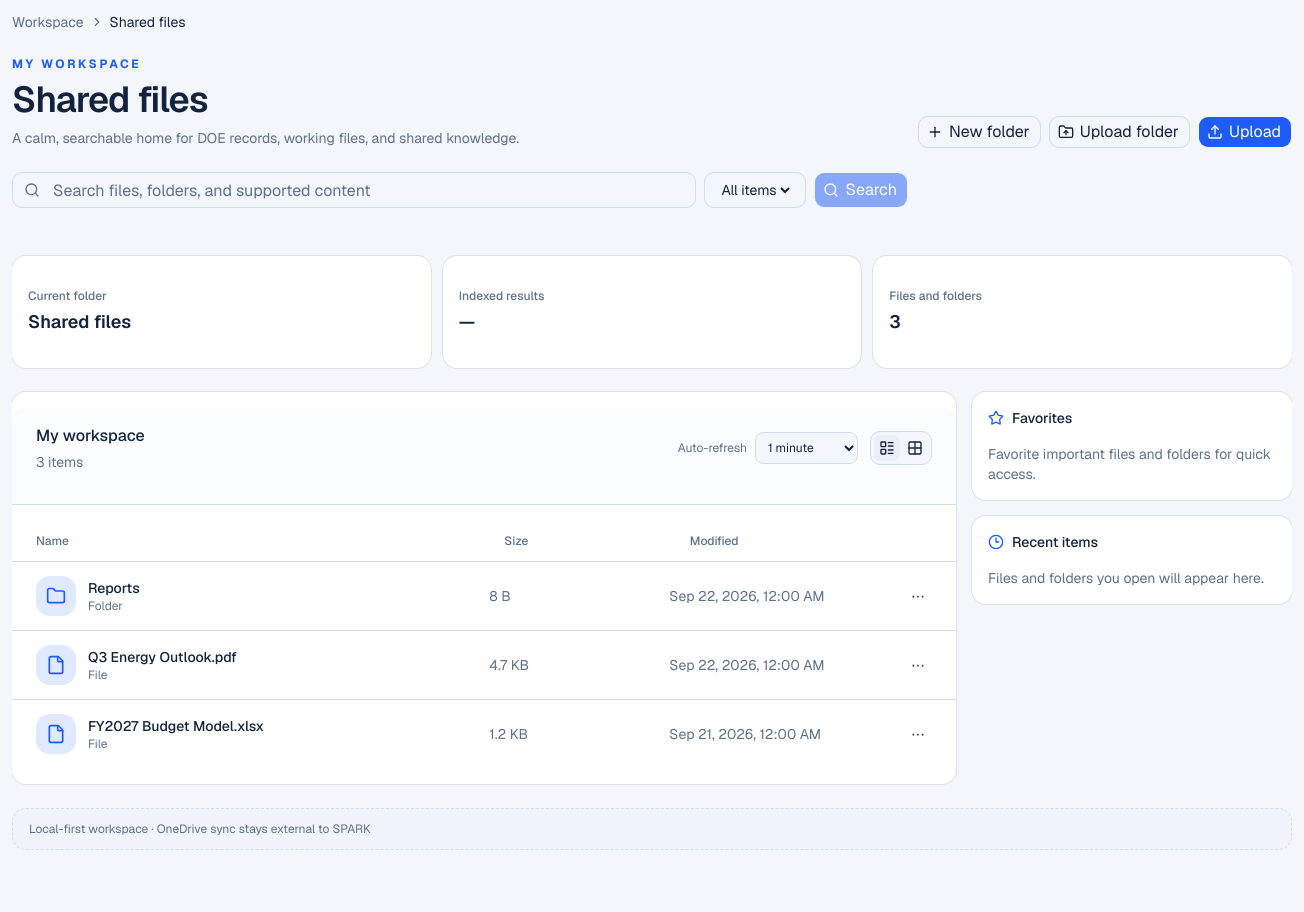
Test case: FileWorkspace › does not let an older auto-refresh overwrite a newly opened folder
Select "15 seconds" in the dropdown named "Auto-refresh interval" at (806, 448), box top-left (755, 432), bottom-right (858, 464)
Wait 15000 ms
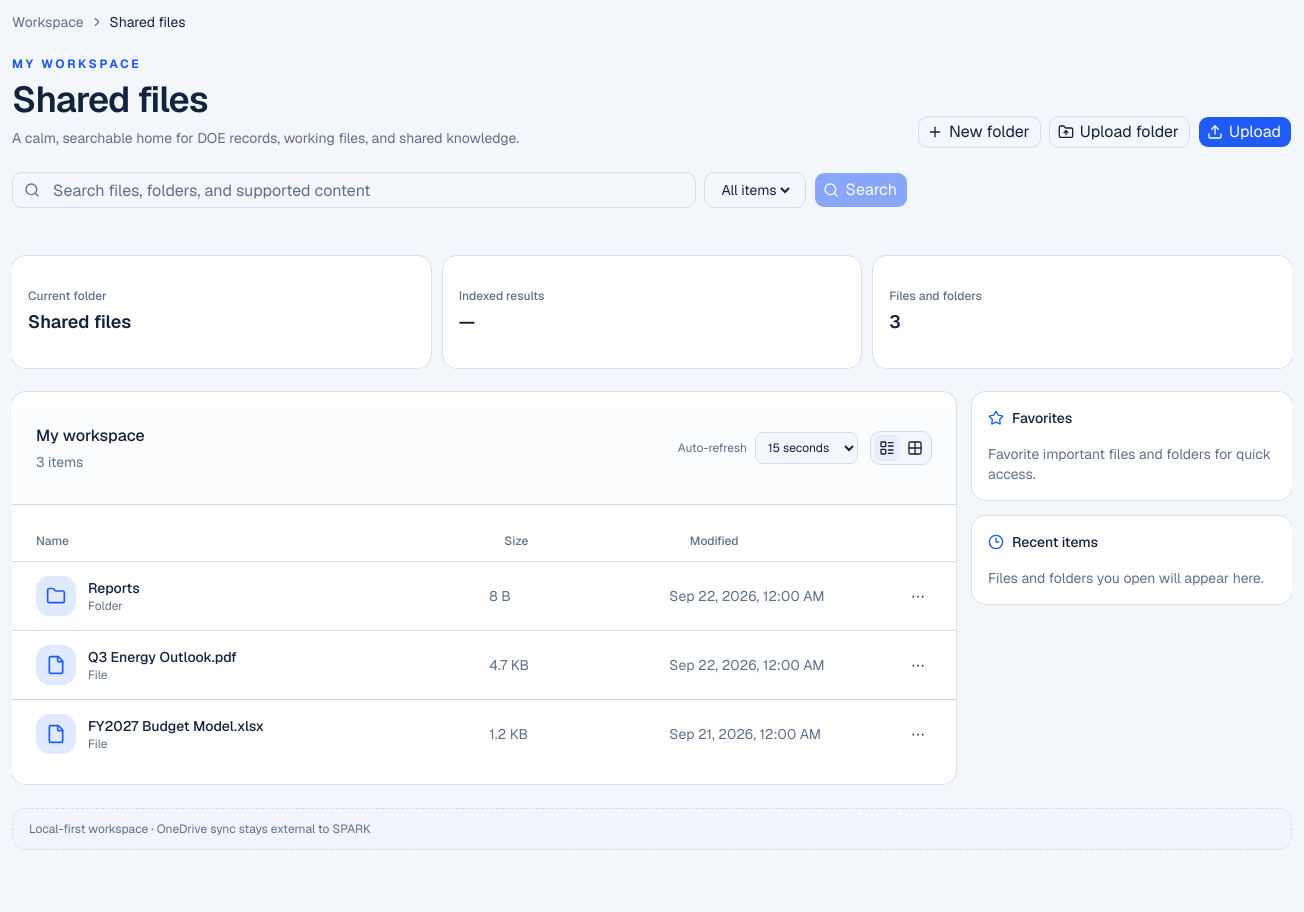
Click the button "Reports Folder".
click(56, 596)  # box top-left (36, 576), bottom-right (473, 616)
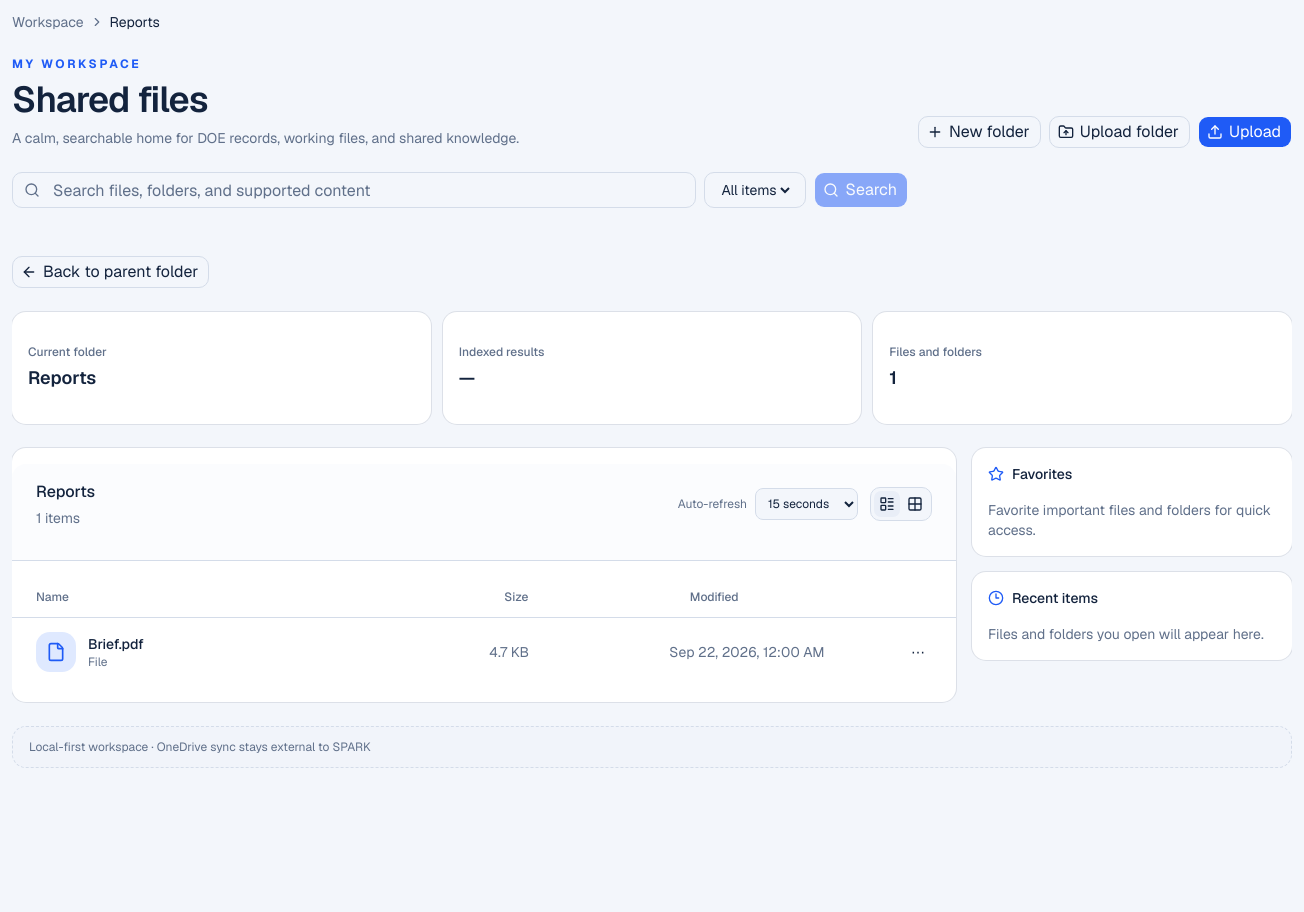
Expected: the text "Brief.pdf" is shown, top-left (88, 634), bottom-right (144, 654)
